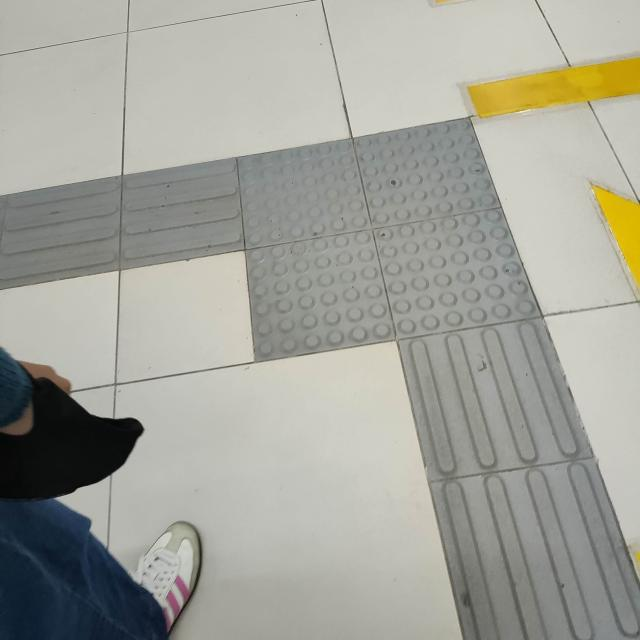kiri: (68, 96, 640, 402)
